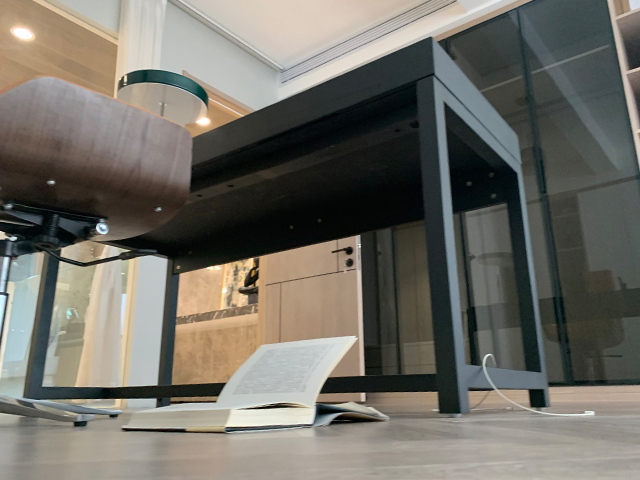stool: (1, 73, 195, 428)
table: (21, 33, 552, 417)
wire: (469, 352, 599, 419)
